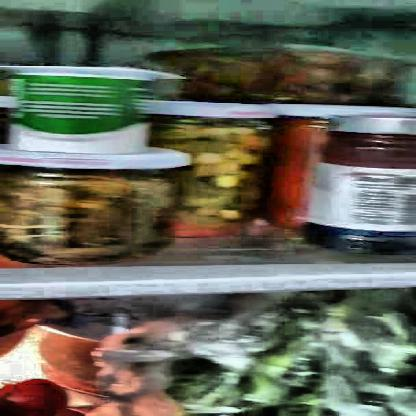lettuce: (165, 294, 415, 415)
tomato: (3, 376, 70, 414)
yoghurt: (4, 63, 176, 154)
